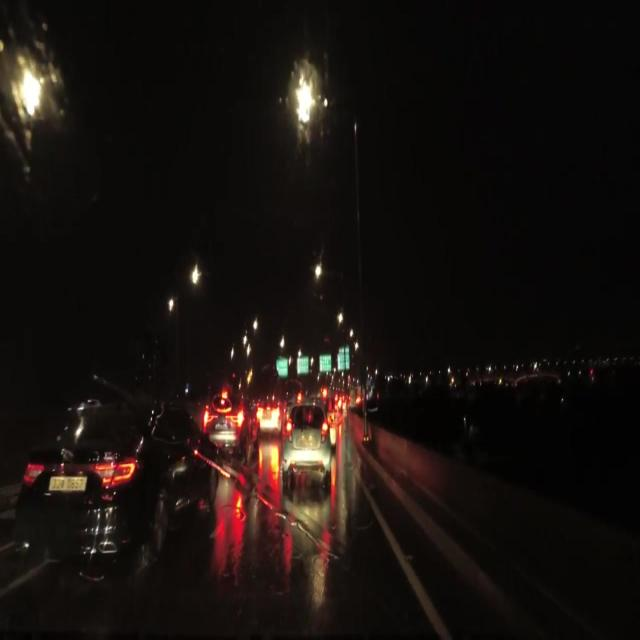Car: (13, 405, 216, 567), (281, 400, 330, 478), (206, 396, 260, 463), (256, 393, 281, 430)
